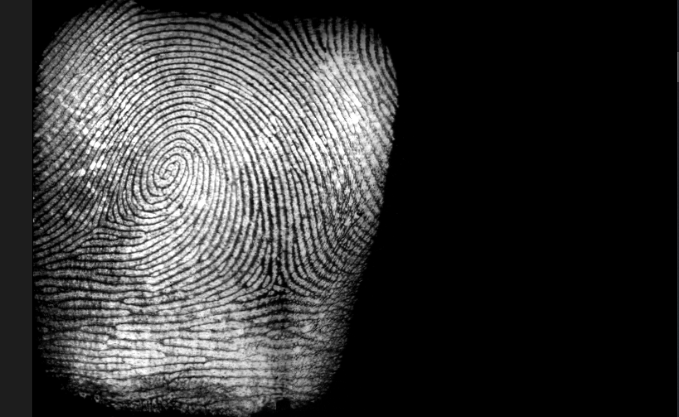deltas: (252, 245, 304, 305), (78, 194, 124, 242)
nucleo: (146, 145, 191, 196)
